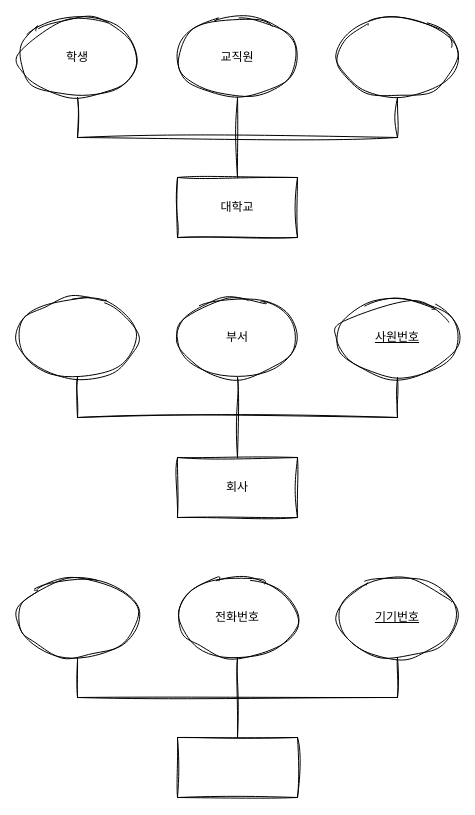
Some shapes in this 475 by 815 pixel diagram are drawn without their labels. The centre of each missing label's shape, as x and y in pixels:
"어플" belongs at point (77, 617).
"직원" belongs at point (77, 337).
"학번" belongs at point (397, 57).
"휴대폰" belongs at point (237, 767).
